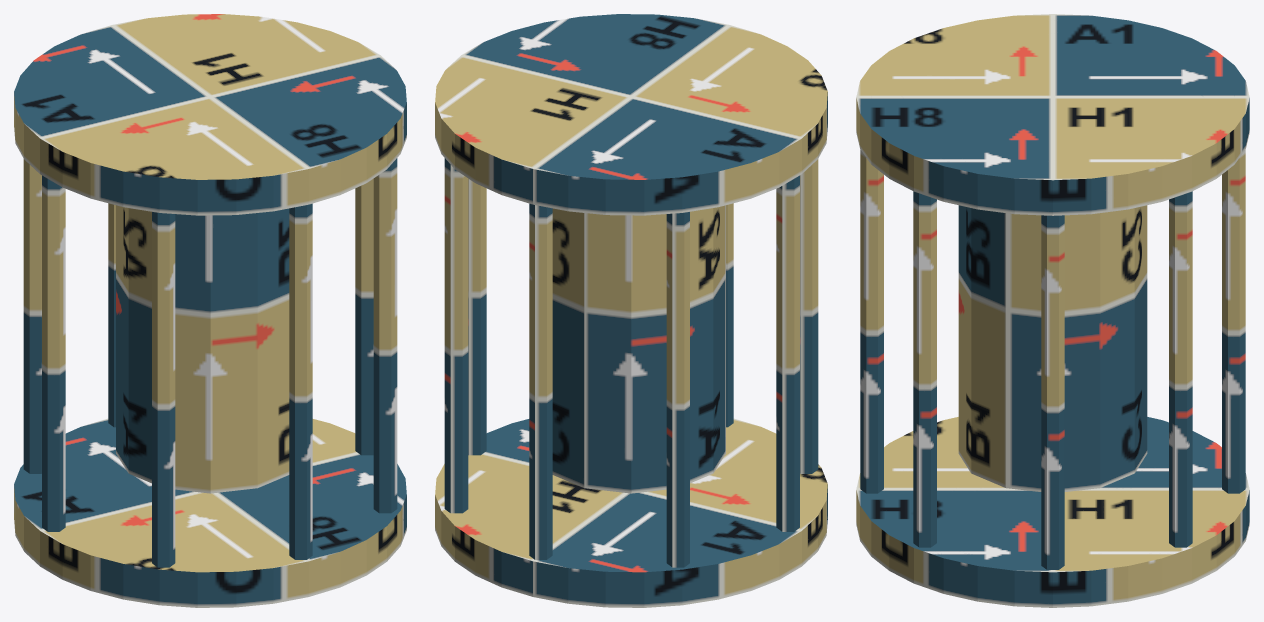
File: LIGHT_IndustrialCage.fbx
The picture shows the model from 3 angles, left to right: view 1: azimuth 30°, elevation 25°; view 2: azimuth 150°, elevation 25°; view 3: azimuth 270°, elevation 25°; orthographic projection.
Parts seen in each view (by area): view 1: LIGHT_IndustrialCage; view 2: LIGHT_IndustrialCage; view 3: LIGHT_IndustrialCage.
Part boxes in pixels (x1,y1,x2,y2): LIGHT_IndustrialCage: (14, 14, 406, 607); LIGHT_IndustrialCage: (435, 14, 827, 607); LIGHT_IndustrialCage: (856, 14, 1249, 607).
Size of the model in its own units: 50 by 60 by 50.
2 materials, 2 textured.
